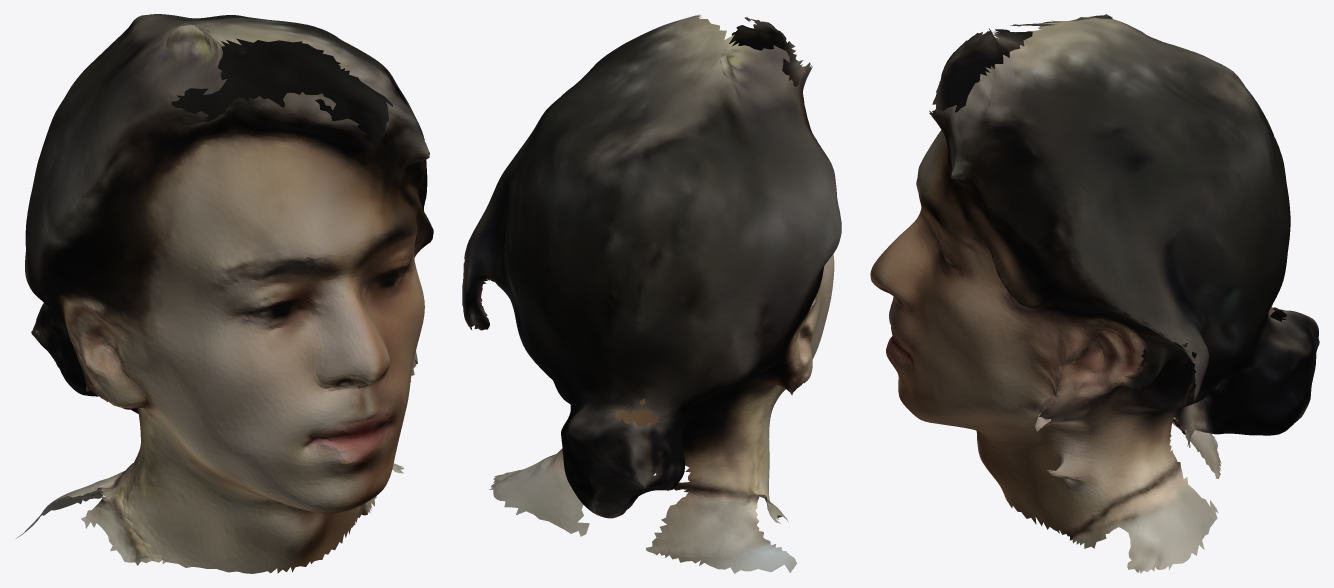
Rendered from head.obj.
3 renders of one model, left to right at view 1: azimuth 30°, elevation 25°; view 2: azimuth 150°, elevation 25°; view 3: azimuth 270°, elevation 25°, orthographic. The views are drawn at different scales.
Parts seen in each view (by area): view 1: skin, hair; view 2: hair, skin; view 3: hair, skin.
Part boxes in pixels (x1,y1,x2,y2): skin: (16,135,424,573); hair: (25,14,433,413); hair: (462,14,841,518); skin: (489,254,834,573); hair: (920,14,1319,447); skin: (870,130,1221,573).
Size of the model in its own units: 0.2212 by 0.2857 by 0.2521.
